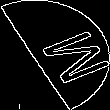M_SW: (12, 23, 98, 87)
